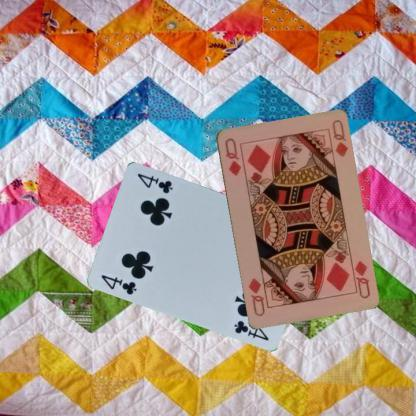4c: (98, 271, 138, 296)
Qd: (347, 256, 371, 300), (222, 135, 242, 177)
